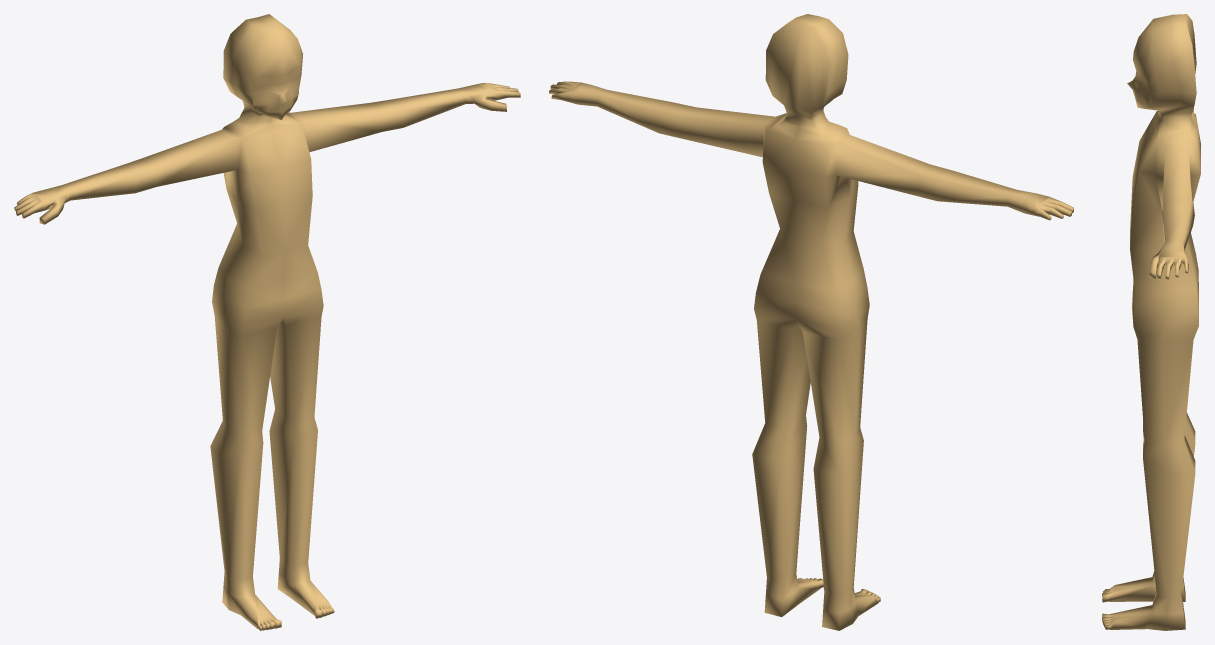
3 views of the same model, side by side, from view 1: azimuth 30°, elevation 25°; view 2: azimuth 150°, elevation 25°; view 3: azimuth 270°, elevation 25° (orthographic). The views are drawn at different scales.
Parts seen in each view (by area): view 1: Base; view 2: Base; view 3: Base.
Boxes of the visible parts, x1=… form: Base: x1=14, y1=14, x2=520, y2=630; Base: x1=549, y1=14, x2=1073, y2=630; Base: x1=1102, y1=14, x2=1200, y2=630.
Bounding box in the file's own units: 1.42 × 1.56 × 0.2365.
